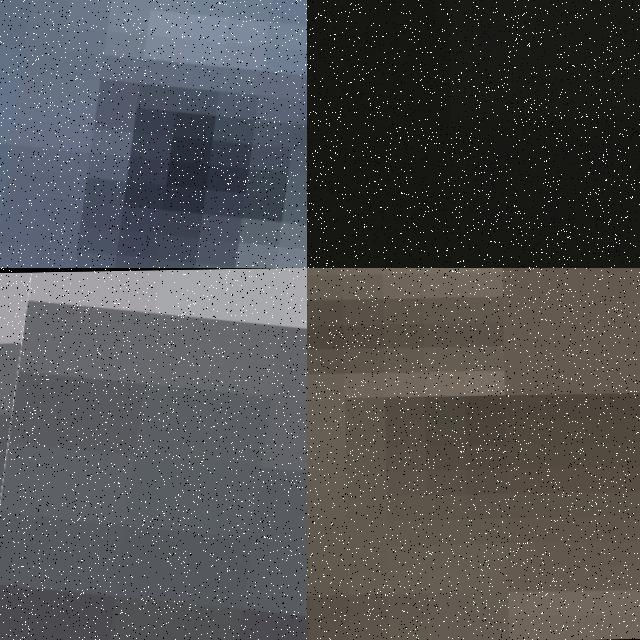drone: (0, 268, 307, 640), (0, 0, 307, 268)
